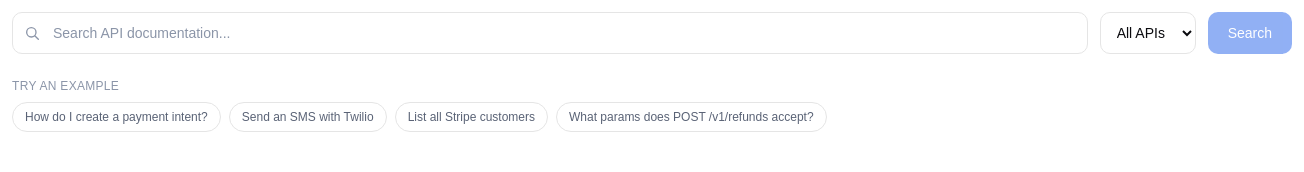
Test: SearchDemo › search button is enabled when input has text
The width and height of the screenshot is (1304, 172).
In the field with placeholder "Search API documentation...": (550, 33) [12,12,1088,54], type "test query"
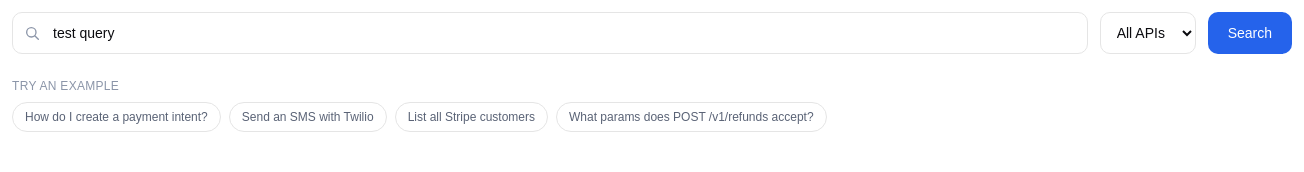
Expected: the button "Search" is enabled, [1208,12,1292,54]
